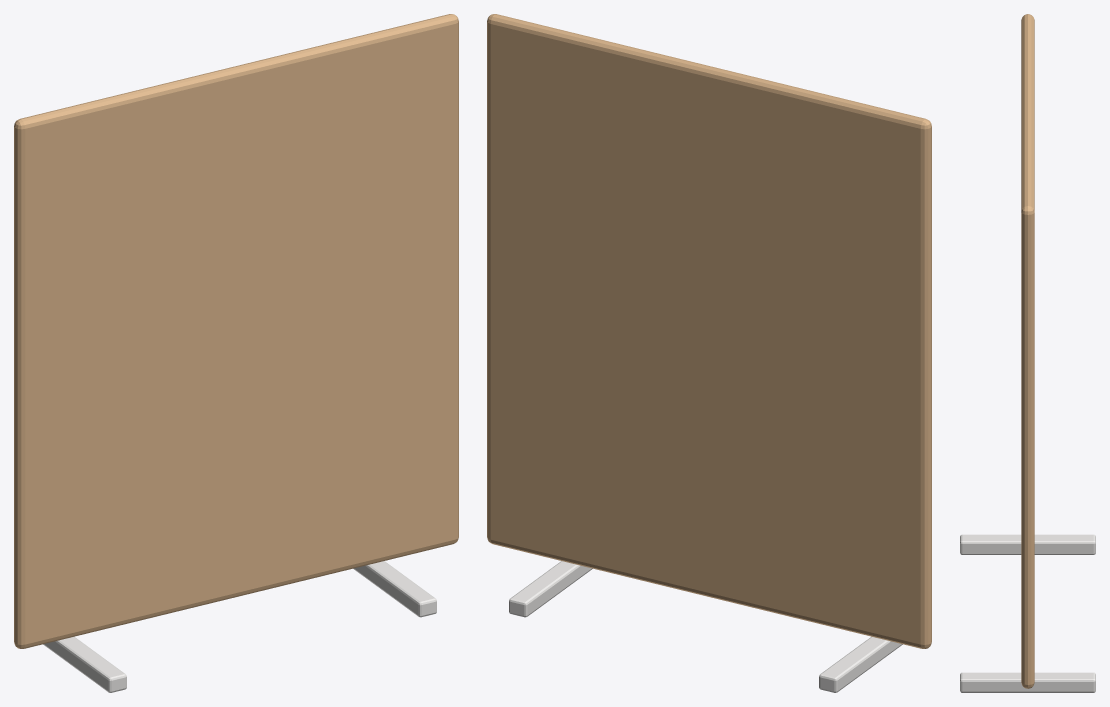
File: partitions___dividers_asset_catalog_15.glb
The picture shows the model from 3 angles, left to right: view 1: azimuth 30°, elevation 25°; view 2: azimuth 150°, elevation 25°; view 3: azimuth 270°, elevation 25°; orthographic projection. The views are drawn at different scales.
Visible parts, largest first — view 1: Cube; view 2: Cube; view 3: Cube.
Boxes of the visible parts, left/top/right/bottom form: Cube: left=14, top=14, right=458, bottom=692; Cube: left=487, top=14, right=931, bottom=692; Cube: left=960, top=14, right=1095, bottom=692.
Bounding box in the file's own units: 1.2 × 1.45 × 0.35.
